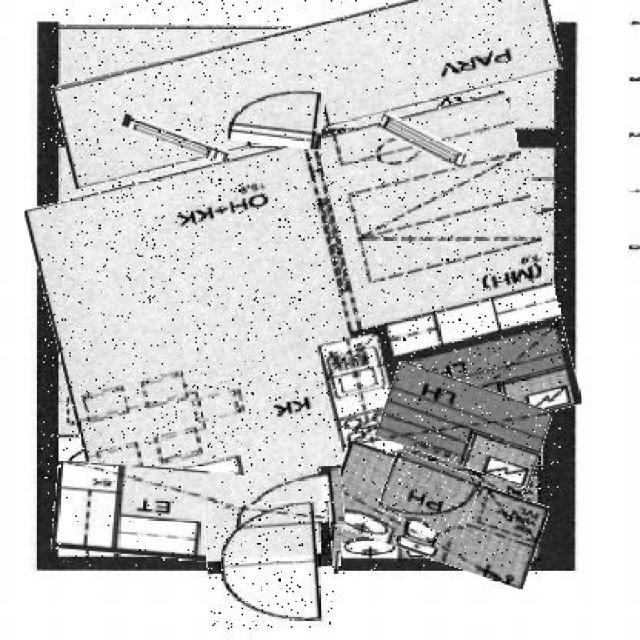door: (206, 502, 334, 630), (233, 469, 344, 534), (381, 457, 477, 532), (229, 78, 325, 148)
window: (375, 123, 468, 160), (122, 123, 229, 154)
zone: (40, 118, 566, 496), (52, 0, 559, 158), (52, 468, 343, 569), (326, 457, 545, 574), (378, 372, 550, 477)
